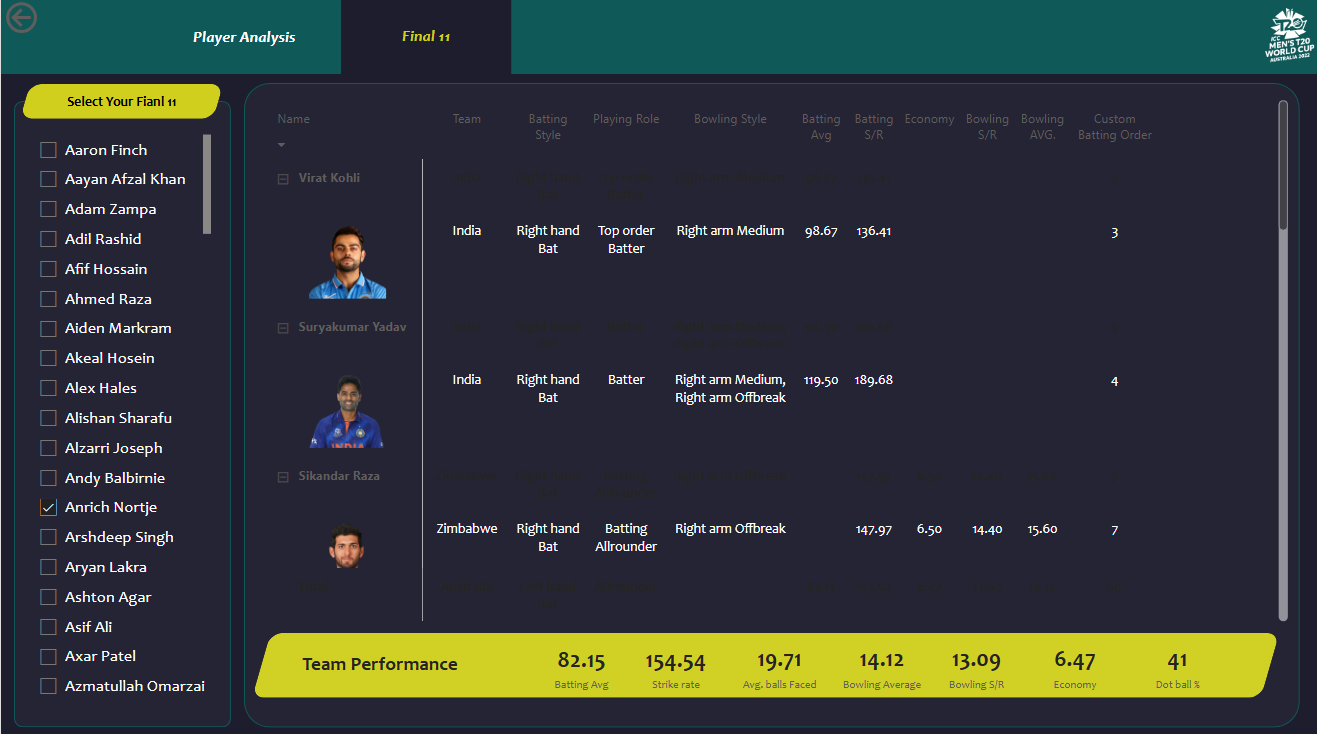

The page's visual inventory and layout, read from the dashboard file:
{"tool":"powerbi","page":{"name":"Final 11","canvas":[1280,720],"ordinal":5},"visuals":[{"type":"shape","box":[0,75,1280,645],"z":0},{"type":"shape","box":[243.8,618.9,999.3,63],"z":1000},{"type":"shape","box":[236.7,83.3,1026.8,626.9],"z":2000},{"type":"shape","box":[12.4,101.1,211,609.2],"z":3000},{"type":"shape","box":[18.6,84.2,197.7,33.7],"z":4000},{"type":"image","box":[1229.9,8,47.9,59.4],"z":5000},{"type":"actionButton","title":"Button Player Ana selected","box":[330.7,0,165.8,75.4],"z":6000},{"type":"slicer","fields":{"Values":["dim_player.name"]},"box":[25.7,128.6,183.5,563.9],"z":7000},{"type":"pivotTable","fields":{"Rows":["dim_players.name","dim_players.image"],"Values":["Min(dim_players.team)","Min(dim_players.battingStyle)","Min(dim_players.playingRole)","Min(dim_players.bowlingStyle)","key_measures.Batting Avg","key_measures.Strike rate","key_measures.Economy","key_measures.Bowling Strike Rate","key_measures.Bowling Average","Sum(dim_players.Custom Batting Order)"]},"box":[258.9,94.9,997.5,516.9],"z":8000},{"type":"actionButton","title":"Button Player Ana selected","box":[153.4,0.9,165.8,74.5],"z":9000},{"type":"card","fields":{"Values":["key_measures.Strike rate"]},"box":[609.7,620.2,93.1,60.3],"z":10000},{"type":"card","fields":{"Values":["key_measures.Avg. balls Faced"]},"box":[702.1,621.5,110,57.6],"z":11000},{"type":"card","fields":{"Values":["key_measures.Batting Avg"]},"box":[518.1,620.2,92.2,60.3],"z":12000},{"type":"card","fields":{"Values":["key_measures.Bowling Strike Rate"]},"box":[902.2,619.7,92.2,61.2],"z":13000},{"type":"card","fields":{"Values":["key_measures.Economy"]},"box":[993.7,619.7,101.1,61.2],"z":14000},{"type":"card","fields":{"Values":["key_measures.Dot ball %"]},"box":[1094.2,619.7,100.2,61.2],"z":15000},{"type":"card","fields":{"Values":["key_measures.Bowling Average"]},"box":[811.5,619.7,91.3,61.2],"z":16000},{"type":"actionButton","box":[0,0,100,40],"z":17000},{"type":"textbox","title":"Team Performance","box":[288.2,636.1,230.5,28.4],"z":18000}]}

Visuals, with their boxes in screenshot pixels (x1, y1, x2, y2), scaled from the page's 1280x720 canvas onto the 1317x734 screenshot:
shape: 0/76/1316/733
shape: 251/631/1279/695
shape: 244/85/1300/724
shape: 13/103/230/724
shape: 19/86/223/120
image: 1265/8/1315/69
"Button Player Ana selected" actionButton: 340/0/511/77
slicer - dim_player.name: 26/131/215/706
pivotTable - dim_players.name x dim_players.image: 266/97/1293/624
"Button Player Ana selected" actionButton: 158/1/328/77
card - key_measures.Strike rate: 627/632/723/694
card - key_measures.Avg. balls Faced: 722/634/836/692
card - key_measures.Batting Avg: 533/632/628/694
card - key_measures.Bowling Strike Rate: 928/632/1023/694
card - key_measures.Economy: 1022/632/1126/694
card - key_measures.Dot ball %: 1126/632/1229/694
card - key_measures.Bowling Average: 835/632/929/694
actionButton: 0/0/103/41
"Team Performance" textbox: 297/648/534/677
